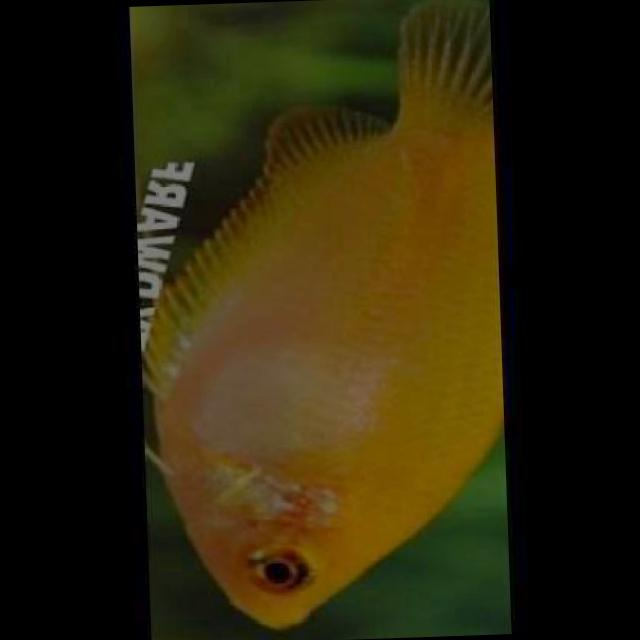Gourami: (128, 0, 512, 632)
